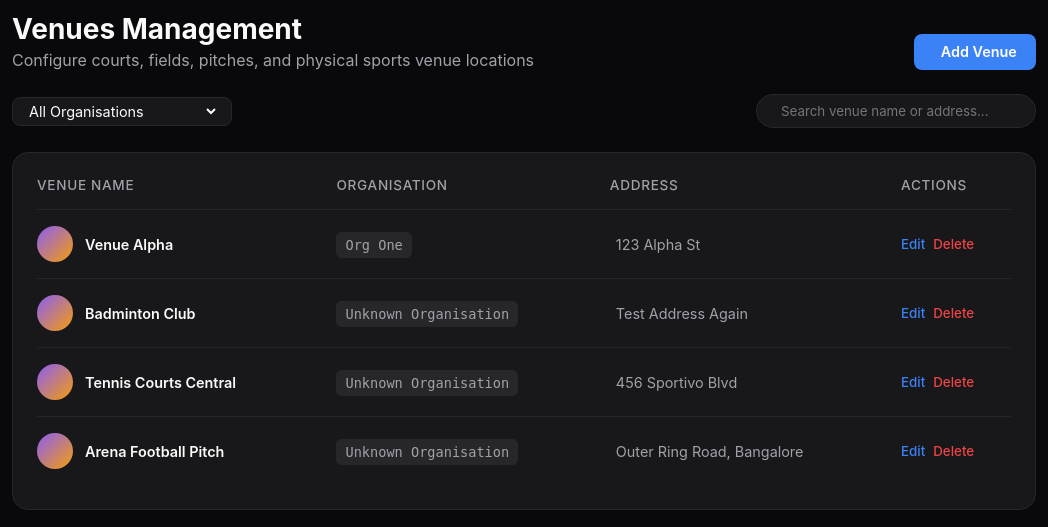
Venues Page tests › should filter venues by search query
Expected: the text "Venue Alpha" is shown, top-left (85, 236), bottom-right (173, 252)
Type "Alpha" into the field with placeholder "Search venue name or address..." at (900, 111), box top-left (781, 103), bottom-right (1019, 119)
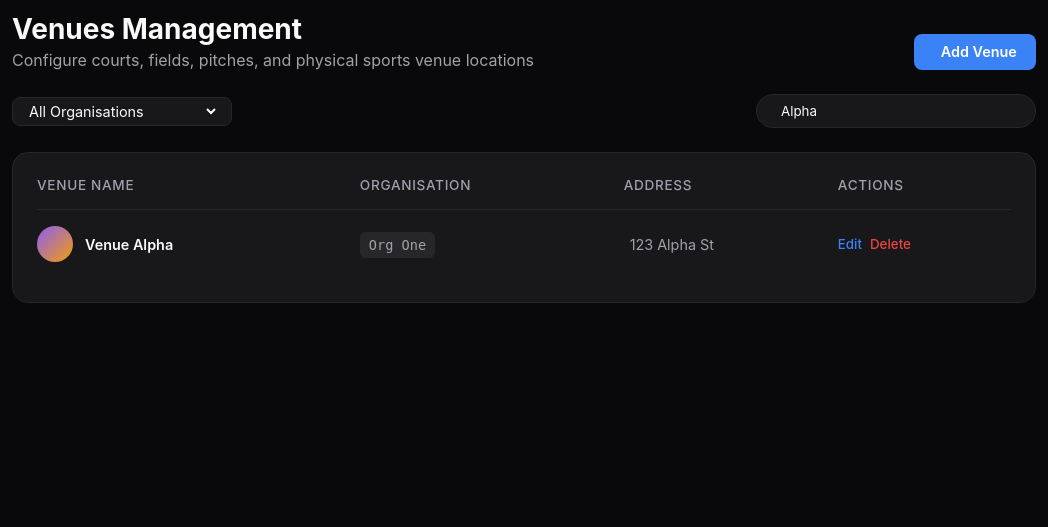
Expected: the text "Venue Alpha" is shown, top-left (85, 236), bottom-right (173, 252)
Replace the text in the field with placeholder "Search venue name or address..." with "Beta" at (900, 111), box top-left (781, 103), bottom-right (1019, 119)
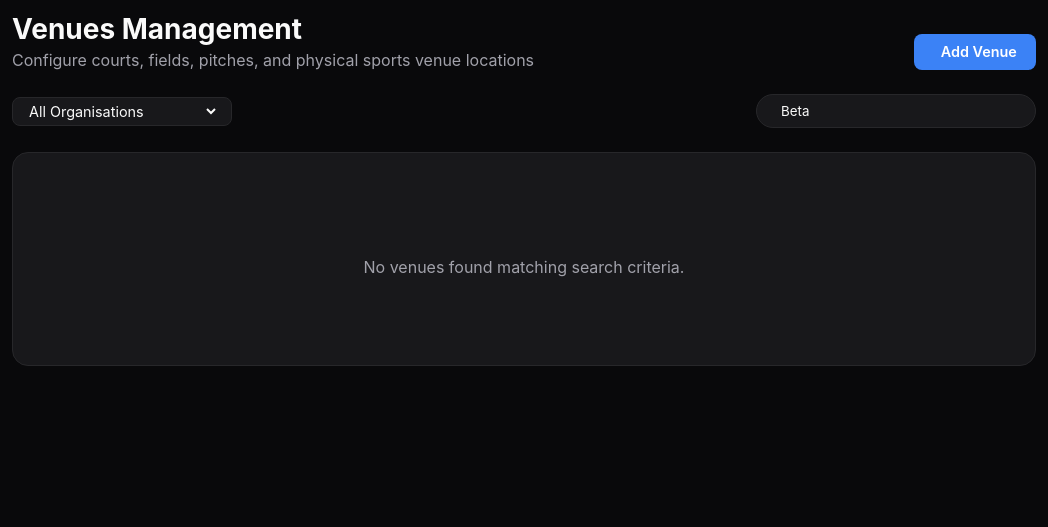
Result: the text "Venue Alpha" is gone
Result: the text "No venues found matching search criteria." is shown at top-left (364, 257), bottom-right (684, 277)
